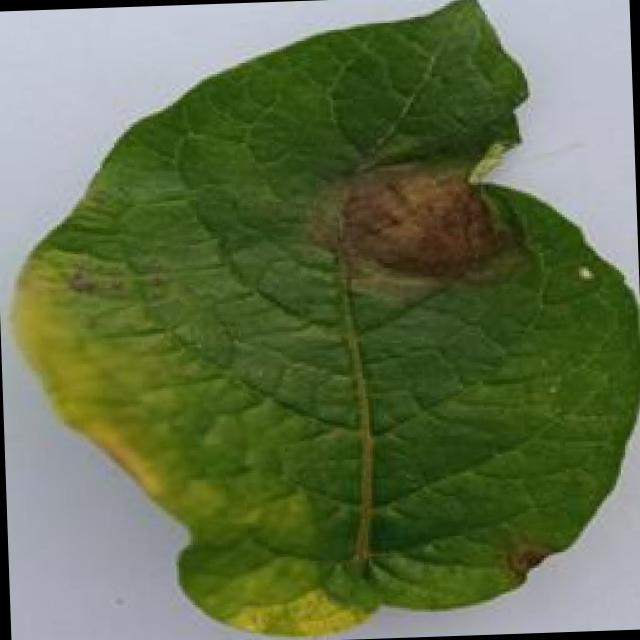Potato_Late_Blight: (3, 7, 640, 640)
